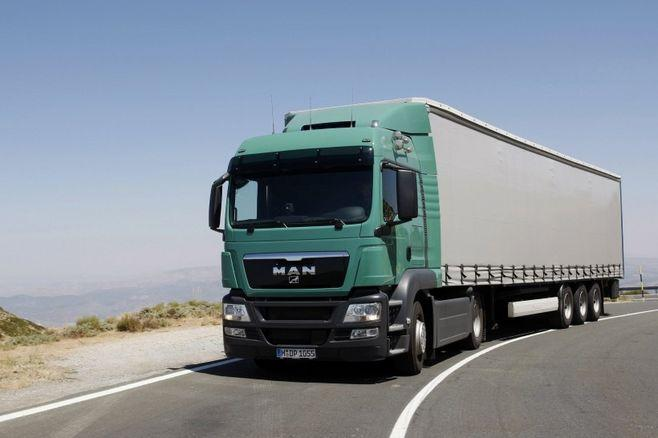卡车: (201, 90, 643, 383)
